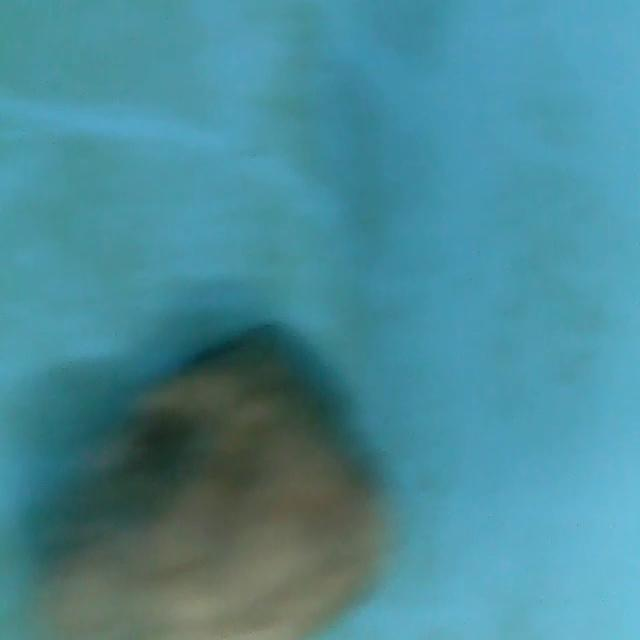rock: (31, 326, 403, 640)
